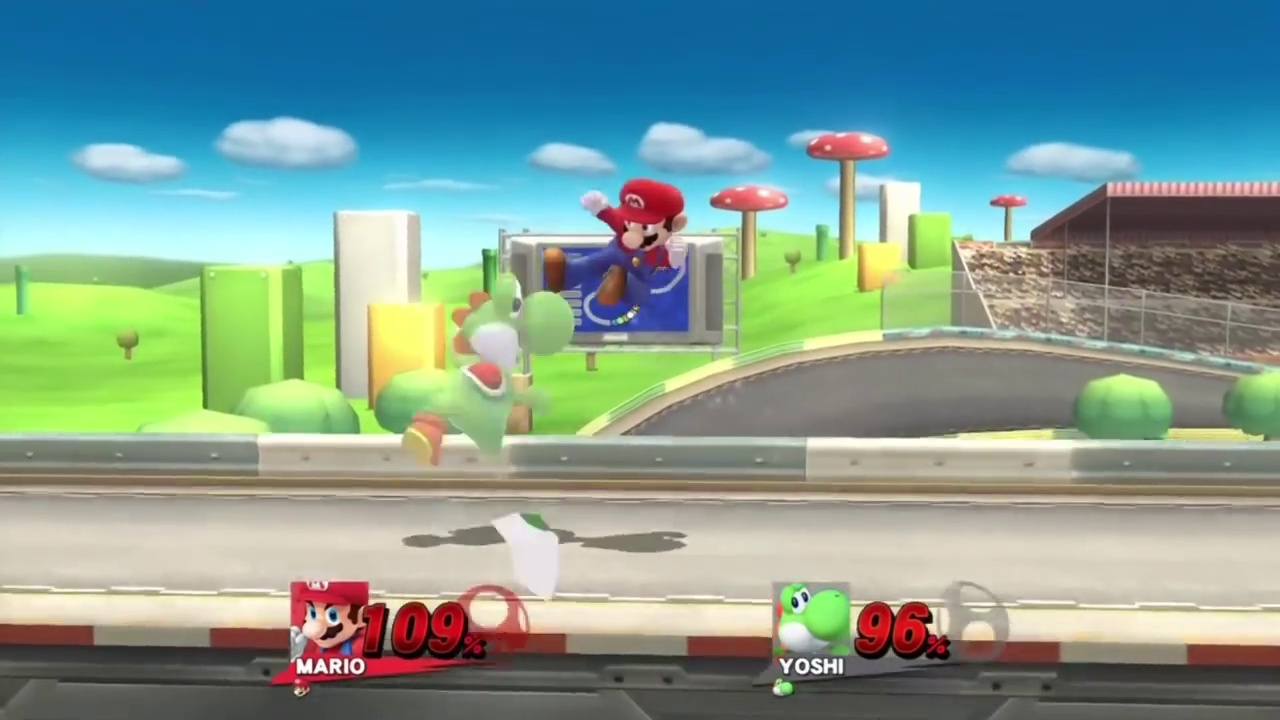Mario: (546, 178, 690, 307)
